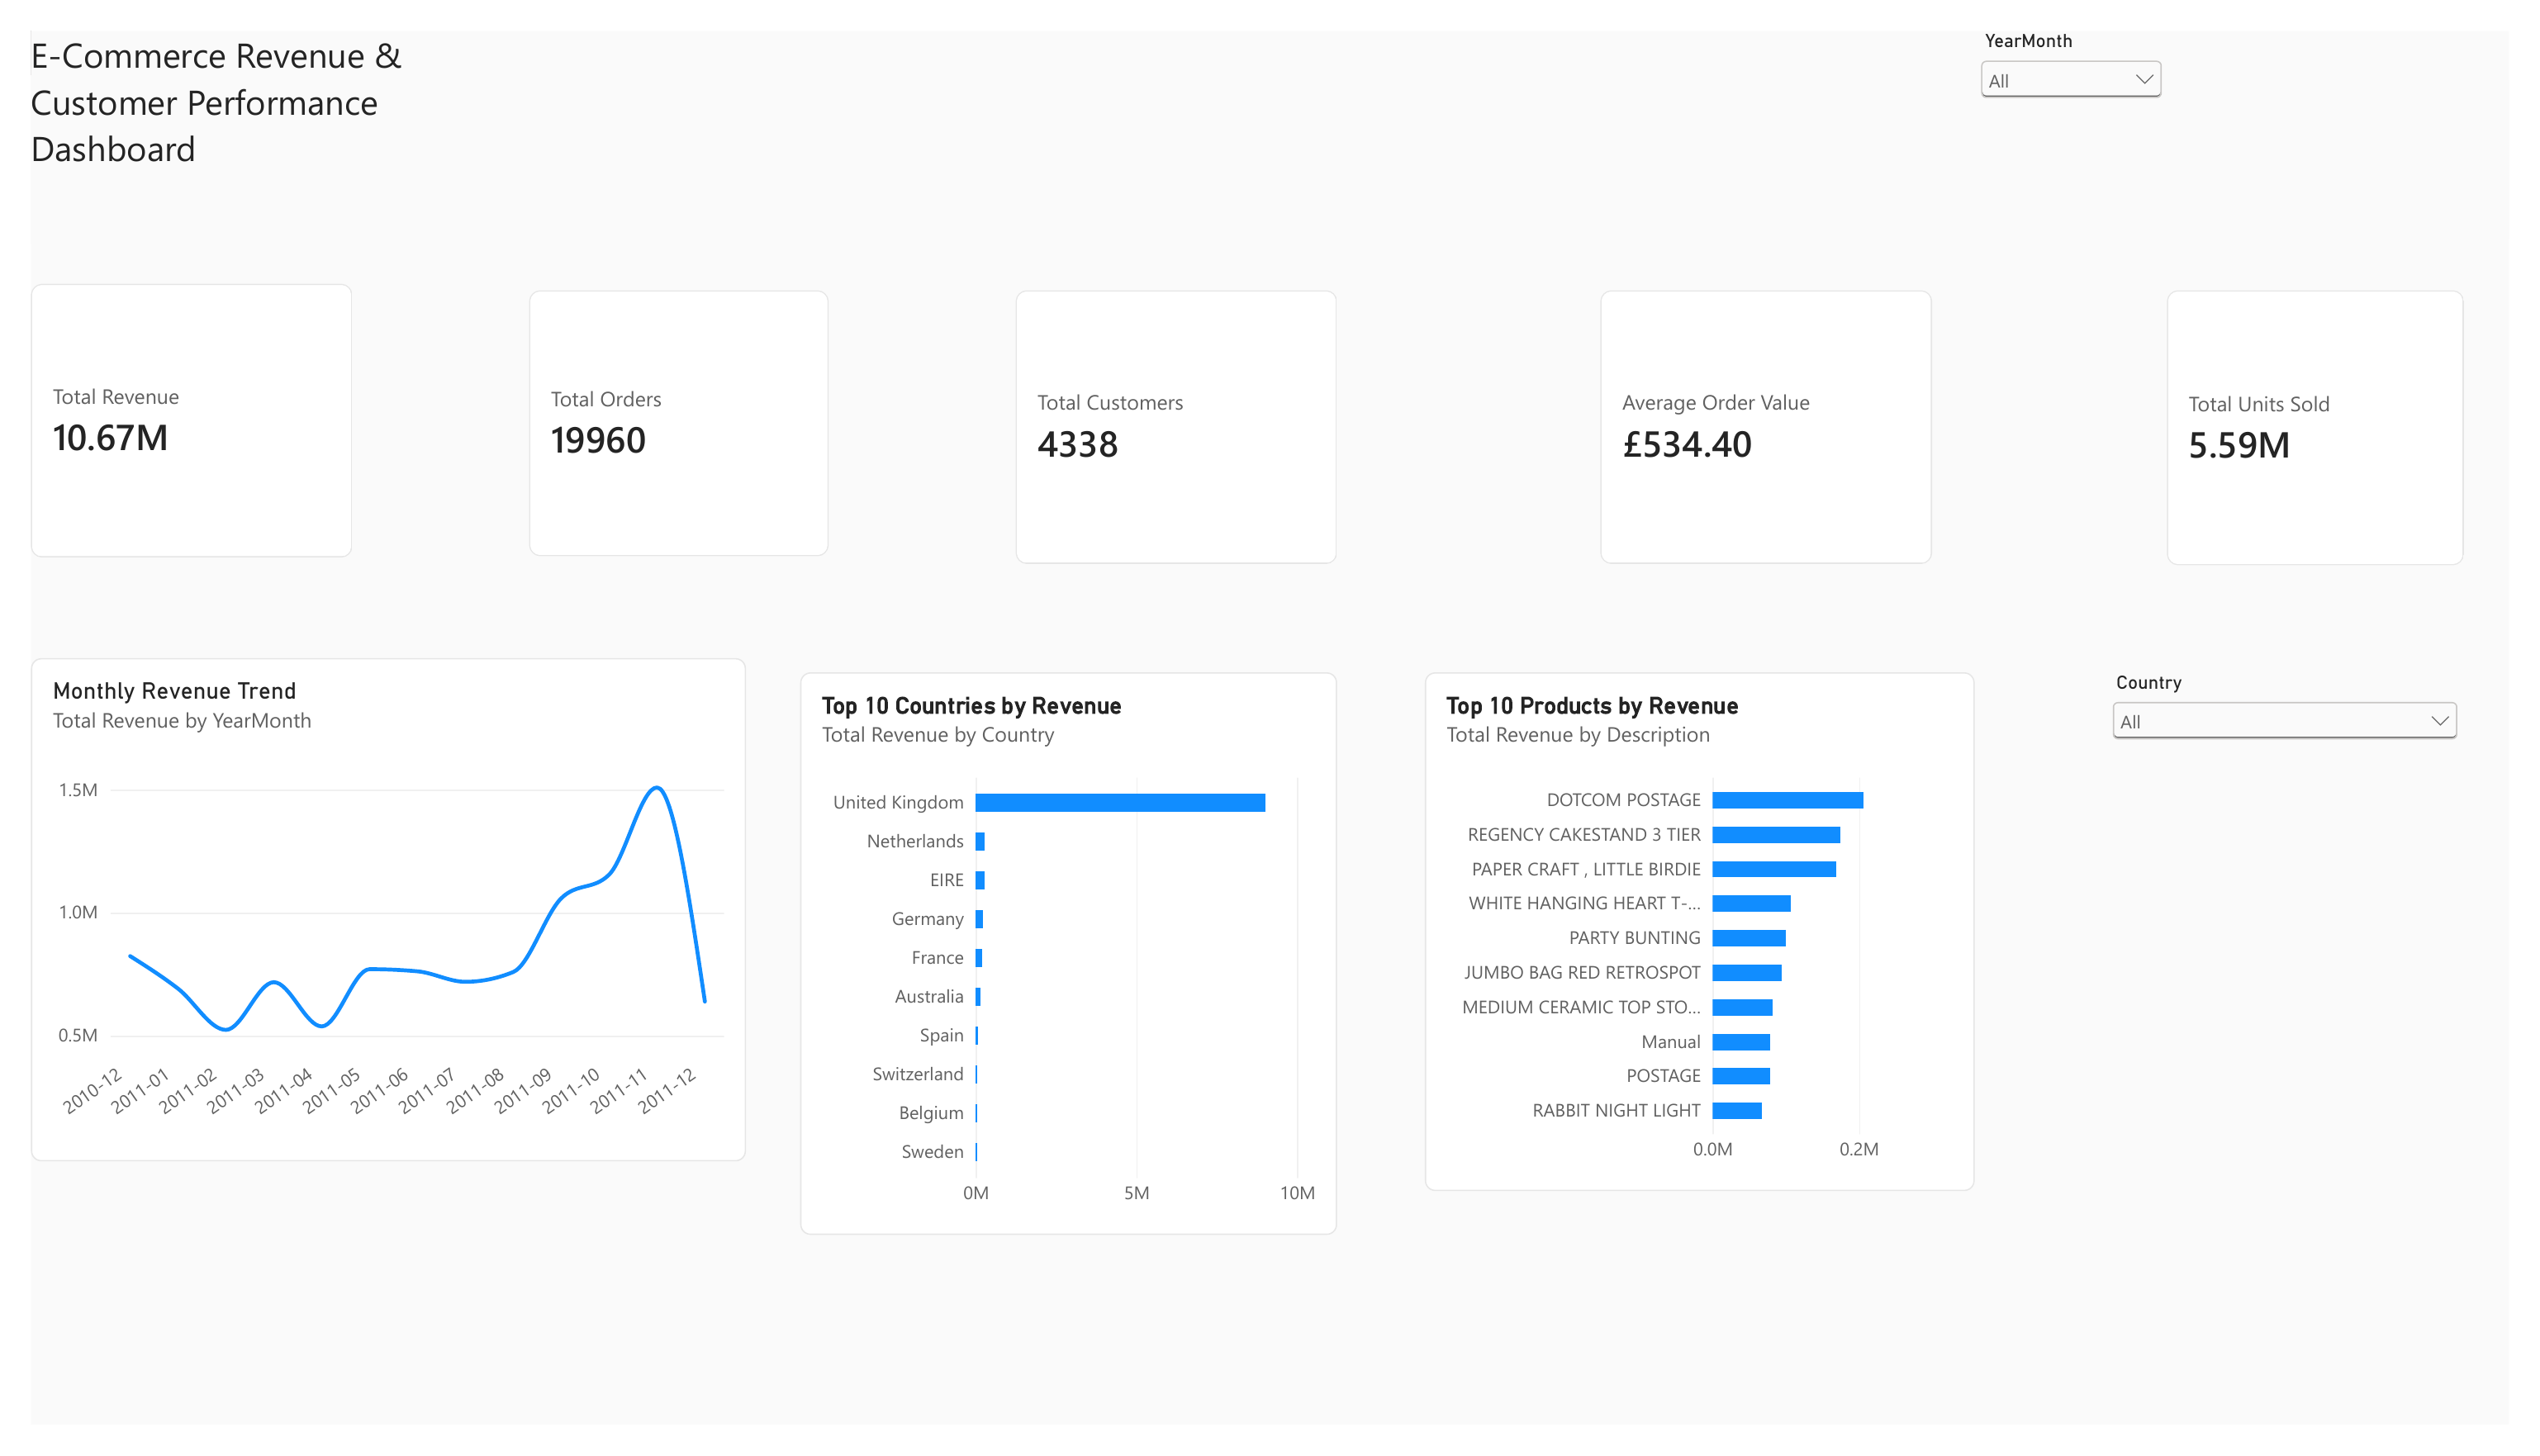

The page's visual inventory and layout, read from the dashboard file:
{"tool":"powerbi","page":{"name":"Page 1","canvas":[1920,1080],"ordinal":0},"visuals":[{"type":"cardVisual","fields":{"Data":["CompletedSales.Average Order Value"]},"box":[1216.1,201.3,258,212.6],"z":0},{"type":"cardVisual","fields":{"Data":["CompletedSales.Total Revenue"]},"box":[0,195.6,249.5,212.6],"z":1},{"type":"cardVisual","fields":{"Data":["CompletedSales.Total Orders"]},"box":[385.5,201.3,232.4,206.9],"z":2},{"type":"cardVisual","fields":{"Data":["CompletedSales.Total Units Sold"]},"box":[1655.4,201.3,230,213],"z":3},{"type":"cardVisual","fields":{"Data":["CompletedSales.Total Customers"]},"box":[762.5,201.3,249.5,212.6],"z":4},{"type":"textbox","box":[0,0,405.4,232.4],"z":5},{"type":"lineChart","title":"Monthly Revenue Trend","fields":{"Category":["CompletedSales.YearMonth"],"Y":["CompletedSales.Total Revenue"]},"box":[0,486.1,554,390],"z":6},{"type":"clusteredBarChart","title":"Top 10 Countries by Revenue","fields":{"Category":["CompletedSales.Country"],"Y":["CompletedSales.Total Revenue"]},"box":[596.4,497.4,415.5,435.3],"z":7},{"type":"clusteredBarChart","title":"Top 10 Products by Revenue","fields":{"Category":["CompletedSales.Description"],"Y":["CompletedSales.Total Revenue"]},"box":[1079.7,497.4,426.8,401.3],"z":8},{"type":"slicer","fields":{"Values":["CompletedSales.Country"]},"box":[1608.2,497.4,277,296.8],"z":9},{"type":"slicer","fields":{"Values":["CompletedSales.YearMonth"]},"box":[1506.4,0,149.8,62.2],"z":10}]}

Visuals, with their boxes on the page's 1920x1080 design canvas (x1, y1, x2, y2). These are canvas units, not pixel positions in the 2540x1456 screenshot, which may show the page scaled, cropped or inside an application window:
cardVisual - CompletedSales.Average Order Value: 1216, 201, 1474, 414
cardVisual - CompletedSales.Total Revenue: 0, 196, 250, 408
cardVisual - CompletedSales.Total Orders: 386, 201, 618, 408
cardVisual - CompletedSales.Total Units Sold: 1655, 201, 1885, 414
cardVisual - CompletedSales.Total Customers: 762, 201, 1012, 414
textbox: 0, 0, 405, 232
"Monthly Revenue Trend" lineChart: 0, 486, 554, 876
"Top 10 Countries by Revenue" clusteredBarChart: 596, 497, 1012, 933
"Top 10 Products by Revenue" clusteredBarChart: 1080, 497, 1506, 899
slicer - CompletedSales.Country: 1608, 497, 1885, 794
slicer - CompletedSales.YearMonth: 1506, 0, 1656, 62
